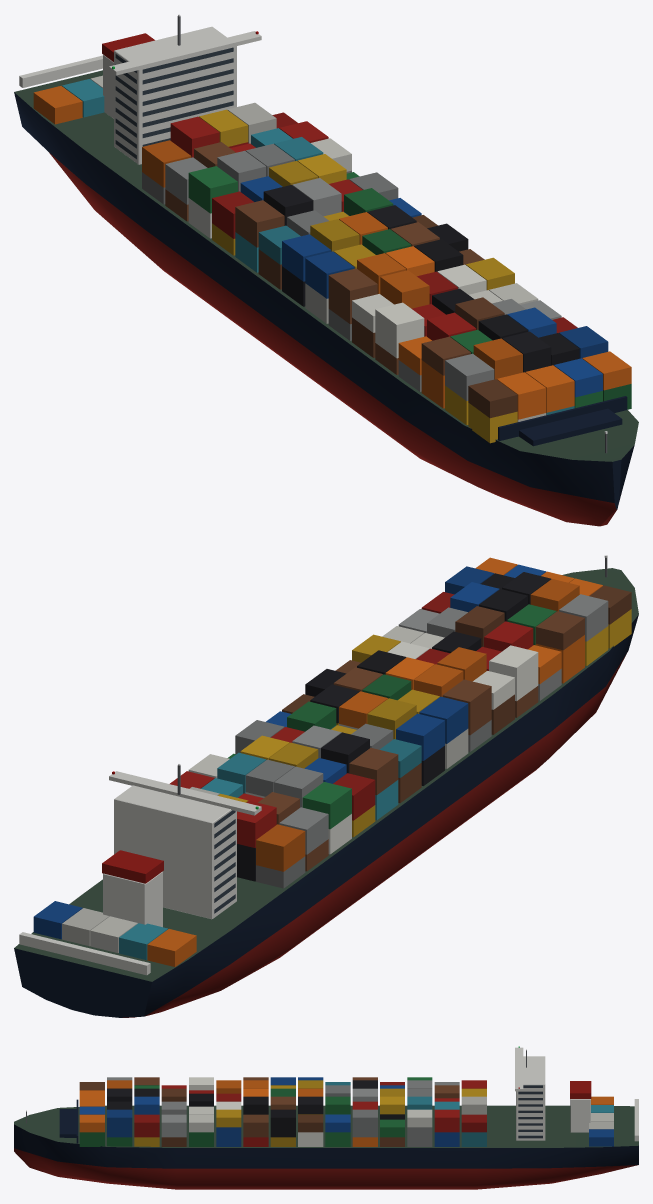
File: porte_conteneurs.glb
The picture shows the model from 3 angles, top to bottom: view 1: azimuth 30°, elevation 25°; view 2: azimuth 150°, elevation 25°; view 3: azimuth 270°, elevation 25°; orthographic projection. The views are drawn at different scales.
Visible parts, largest first — view 1: porte_conteneurs; view 2: porte_conteneurs; view 3: porte_conteneurs.
Part boxes in pixels (box(x1,y1,x2,y2)): porte_conteneurs: box(14, 14, 638, 526); porte_conteneurs: box(14, 555, 638, 1017); porte_conteneurs: box(14, 1046, 638, 1189).
Size of the model in its own units: 48.2 by 65.35 by 300.
